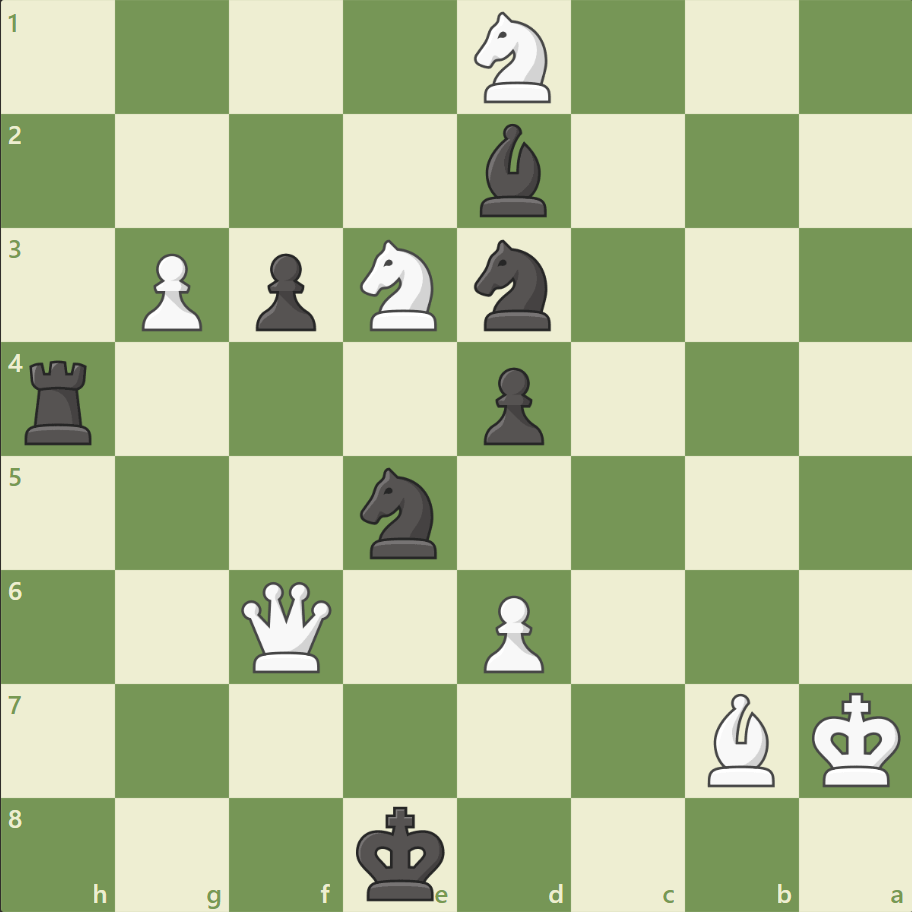B: (698, 687, 782, 790)
K: (806, 685, 906, 793)
N: (351, 234, 449, 337), (465, 7, 562, 110)
P: (474, 586, 549, 677), (133, 246, 208, 337)
Q: (237, 576, 336, 676)
b: (471, 120, 555, 222)
k: (351, 798, 451, 906)
n: (351, 461, 449, 564), (465, 234, 562, 337)
p: (474, 359, 549, 450), (247, 246, 322, 337)
r: (19, 352, 102, 449)
